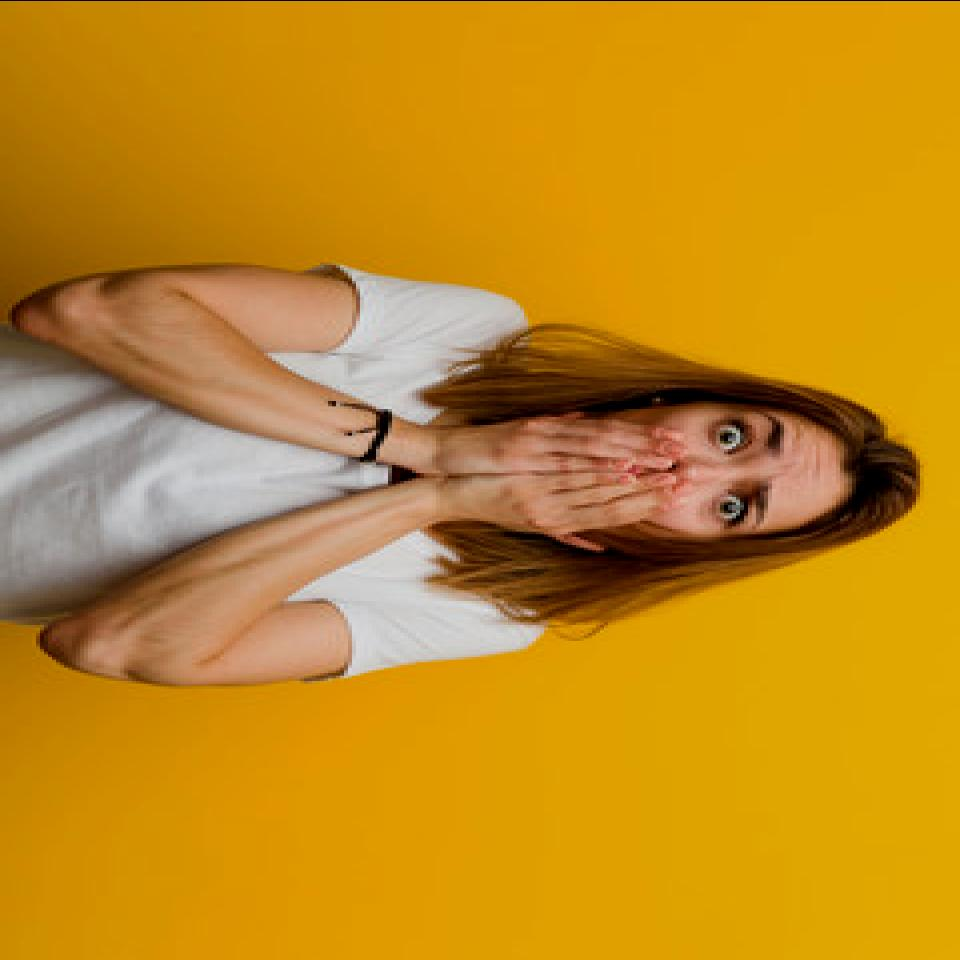Scared: (451, 404, 843, 552)
